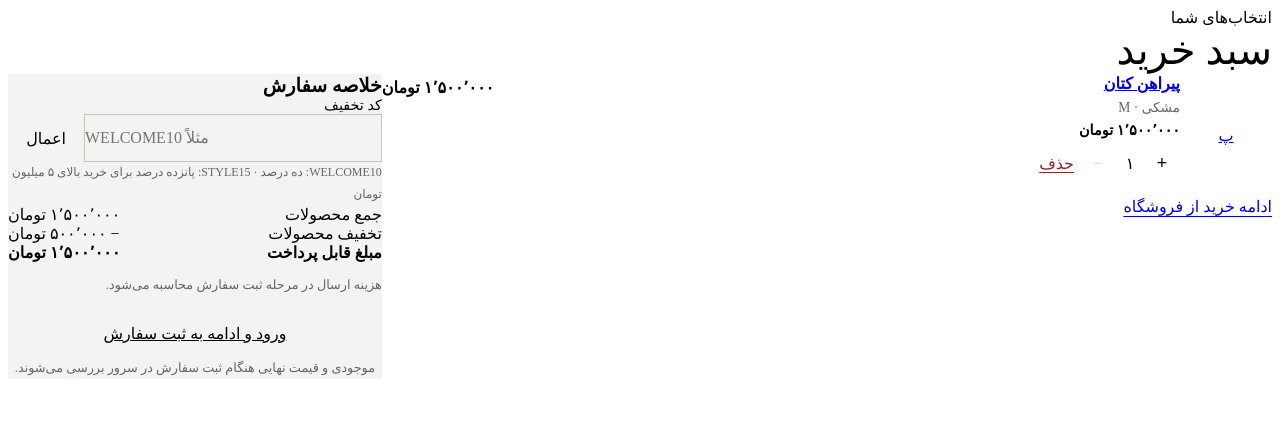
applies a coupon and updates the payable total
Type "WELCOME10" into the field labelled "کد تخفیف" at (233, 138), box x1=84 y1=114 x2=382 y2=162
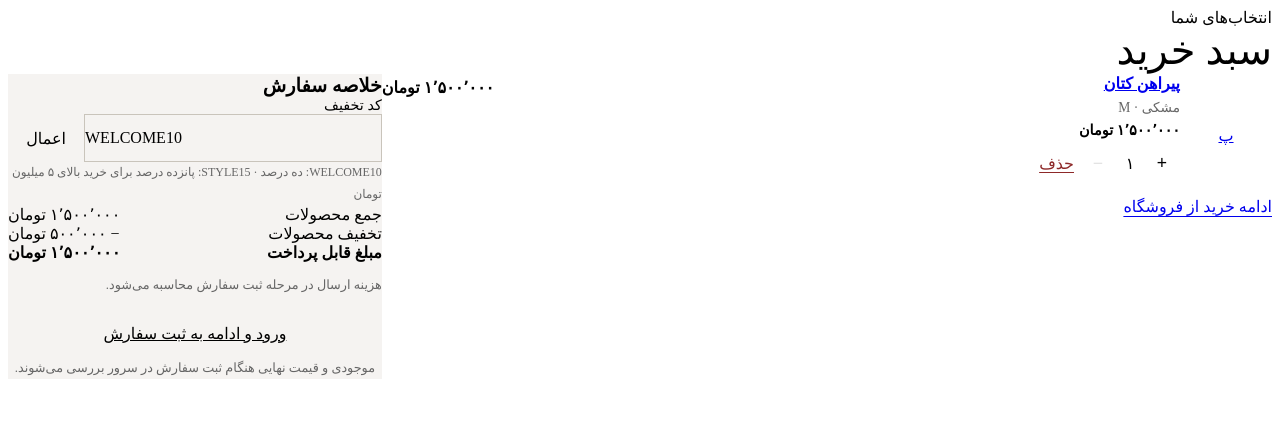
Click the button "اعمال" at (46, 138), box x1=8 y1=114 x2=84 y2=162
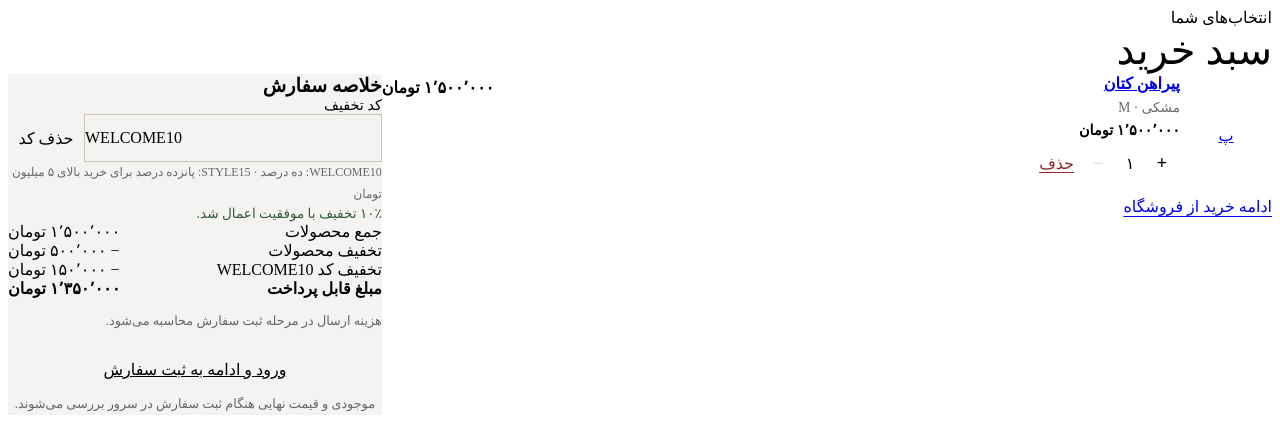
Check: the message reads "۱۰٪ تخفیف با موفقیت اعمال شد.", box x1=197 y1=206 x2=382 y2=221
Check: the text "۱٬۳۵۰٬۰۰۰ تومان" is shown, box x1=8 y1=279 x2=120 y2=298
